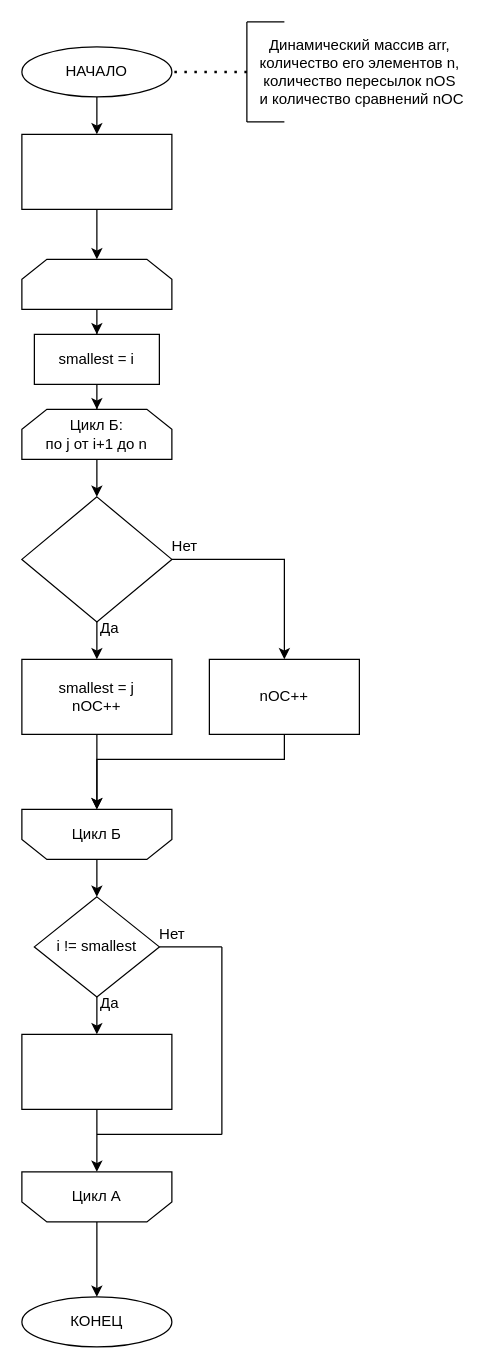
Image size: 500x1369. Some labels were removed from this diagram. Here are the shapes that lost their labels. From the top down, the centre of each, then its label:
At point (96, 171): "Обявление переменных i, j, smallest и temp".
At point (96, 283): "Цикл А: по i от 0 до n-1".
At point (96, 559): "arr[i]<arr[smallest]".
At point (96, 1071): "temp = arr[i] arr[i] = arr[smallest] arr[smallest] = temp nOS++".
